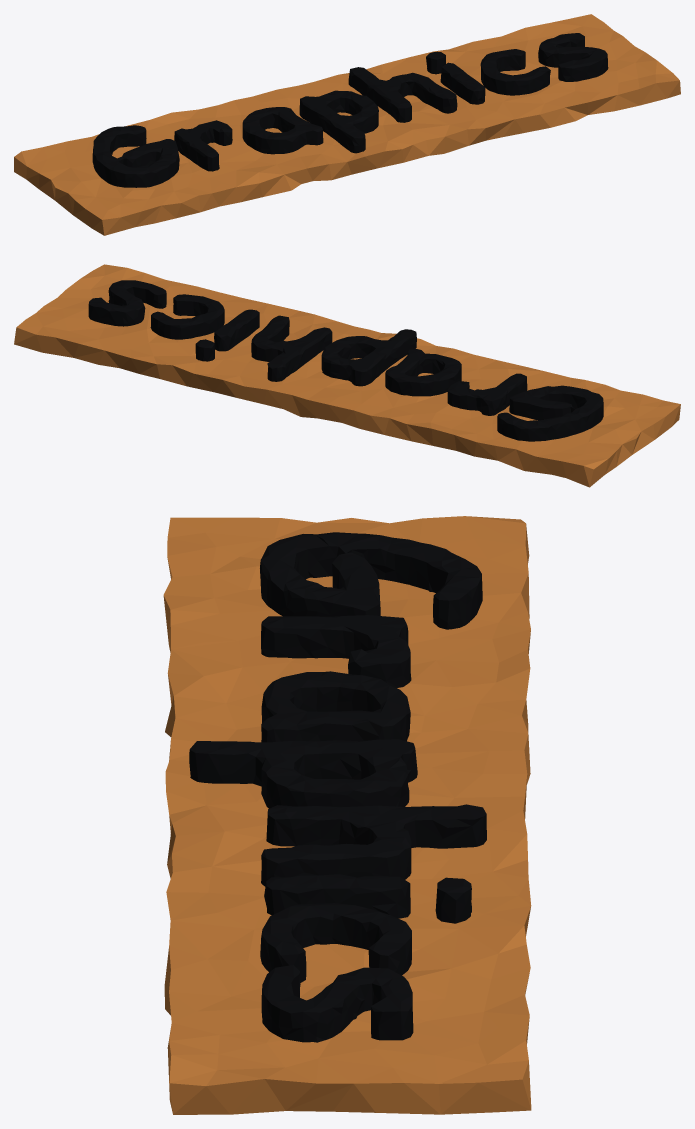
The model's file is Graphics.fbx.
3 views of the same model, one above another, from view 1: azimuth 30°, elevation 25°; view 2: azimuth 150°, elevation 25°; view 3: azimuth 270°, elevation 25° (orthographic). The views are drawn at different scales.
Visible parts, largest first — view 1: Куб.013; view 2: Куб.013; view 3: Куб.013.
Part boxes in pixels (<box>): Куб.013: <box>14,14,680,235</box>; Куб.013: <box>14,264,680,487</box>; Куб.013: <box>163,516,531,1114</box>.
Bounding box in the file's own units: 339 × 19.92 × 92.84.
